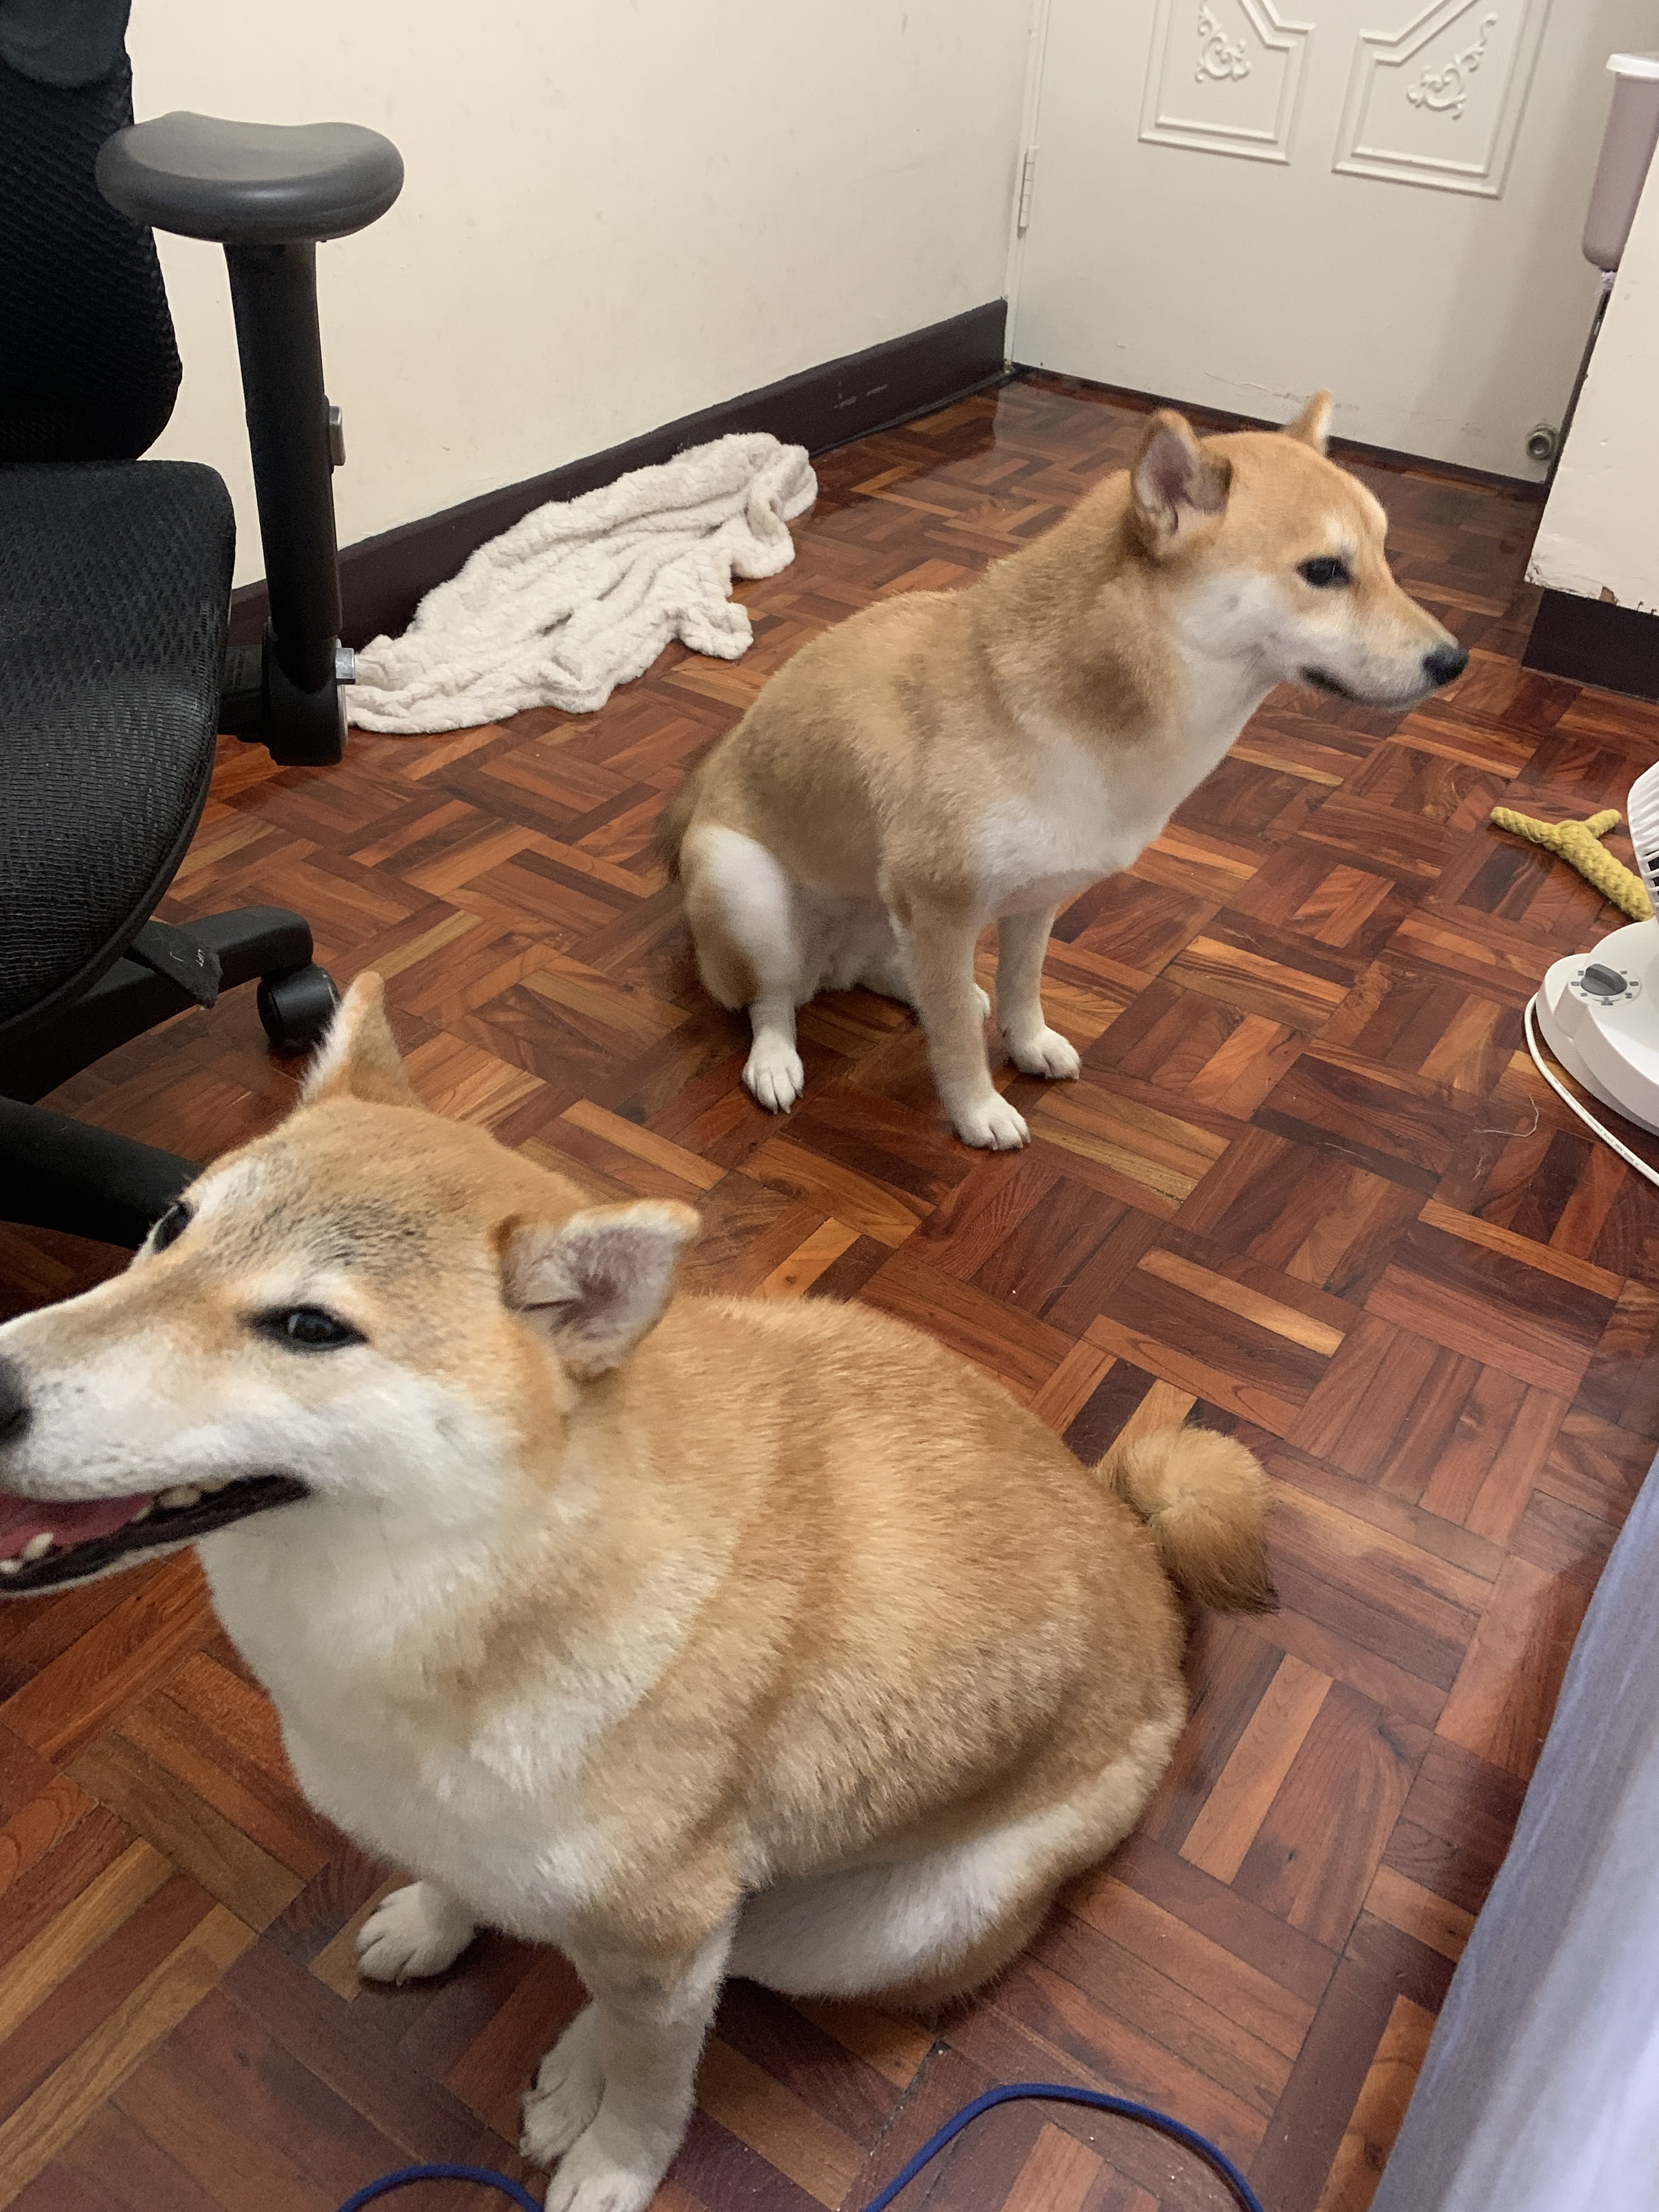Sit down: (31, 996, 1255, 2165), (610, 397, 1474, 1144)
